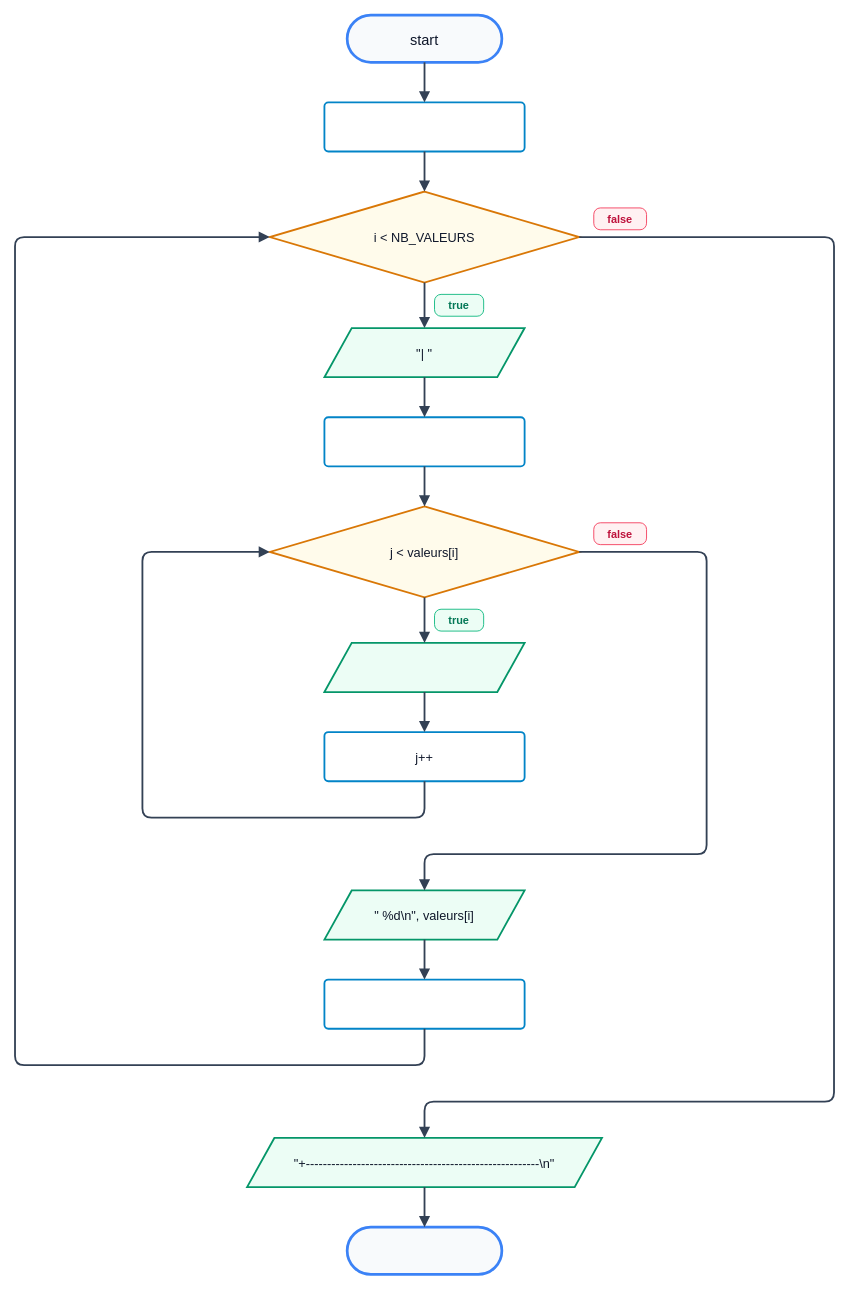
Some shapes in this 849 by 1289 pixel diagram are drawn without their labels. Here are the shapes that lost their labels. From the top down, the box of each, then its label:
(323, 101, 525, 152): i = 0
(323, 416, 525, 467): j = 0
(323, 642, 525, 693): "x"
(323, 978, 525, 1029): i++
(345, 1225, 503, 1275): end
